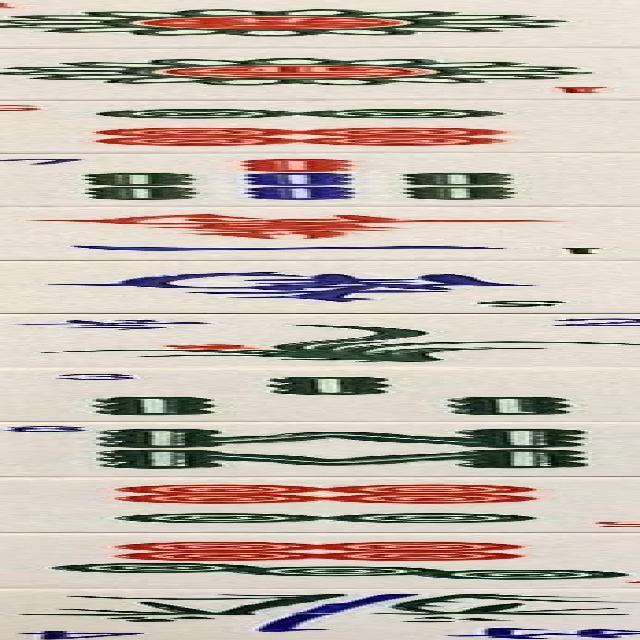bf2: (0, 311, 640, 368)
bf4: (0, 591, 640, 640)
hws: (0, 262, 640, 314)
sb3: (0, 370, 640, 420)
sb7: (0, 156, 640, 206)
sb8: (0, 422, 640, 476)
sc1: (0, 207, 640, 257)
sd1: (0, 0, 640, 50), (0, 49, 640, 98)
sd6: (0, 101, 640, 153), (0, 480, 640, 532), (0, 478, 640, 530)
sd7: (0, 534, 640, 588)
